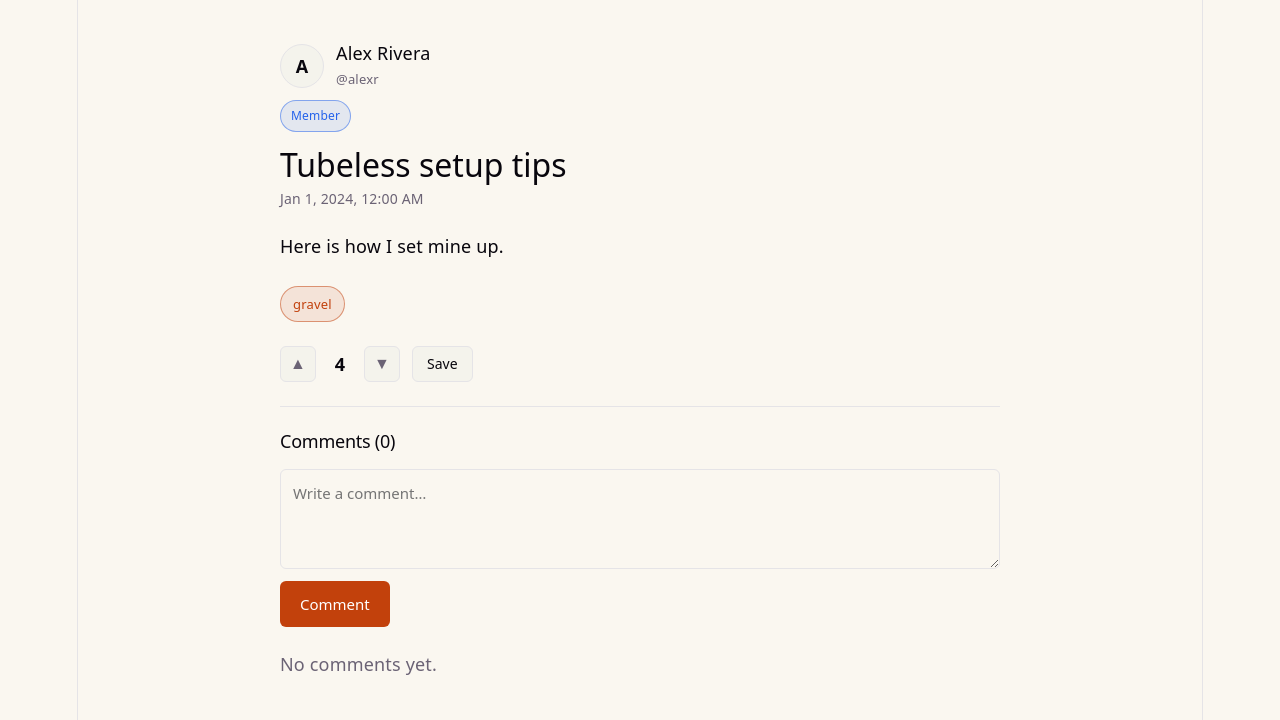
Test: PostView › toggles the save/bookmark button
The width and height of the screenshot is (1280, 720).
Expected: the heading "Tubeless setup tips" is shown, x1=280 y1=143 x2=566 y2=186
Click the button "Save" at (442, 364), box x1=412 y1=346 x2=473 y2=382
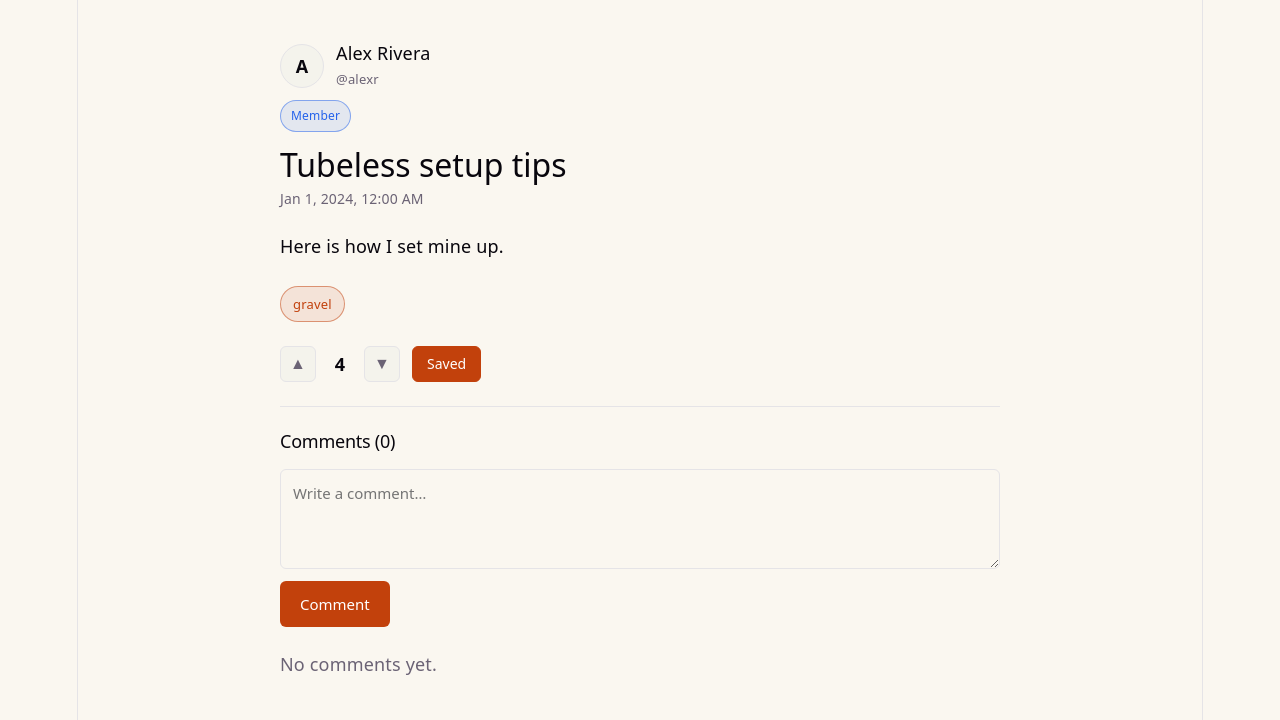
Expected: the button "Saved" is shown, x1=412 y1=346 x2=481 y2=382
